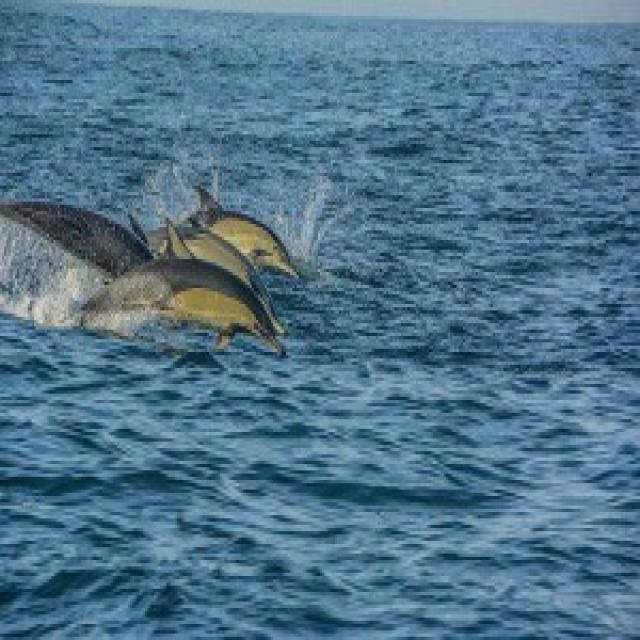Dolphin: (75, 267, 284, 369), (2, 191, 153, 269), (128, 231, 281, 304), (188, 190, 310, 273)
